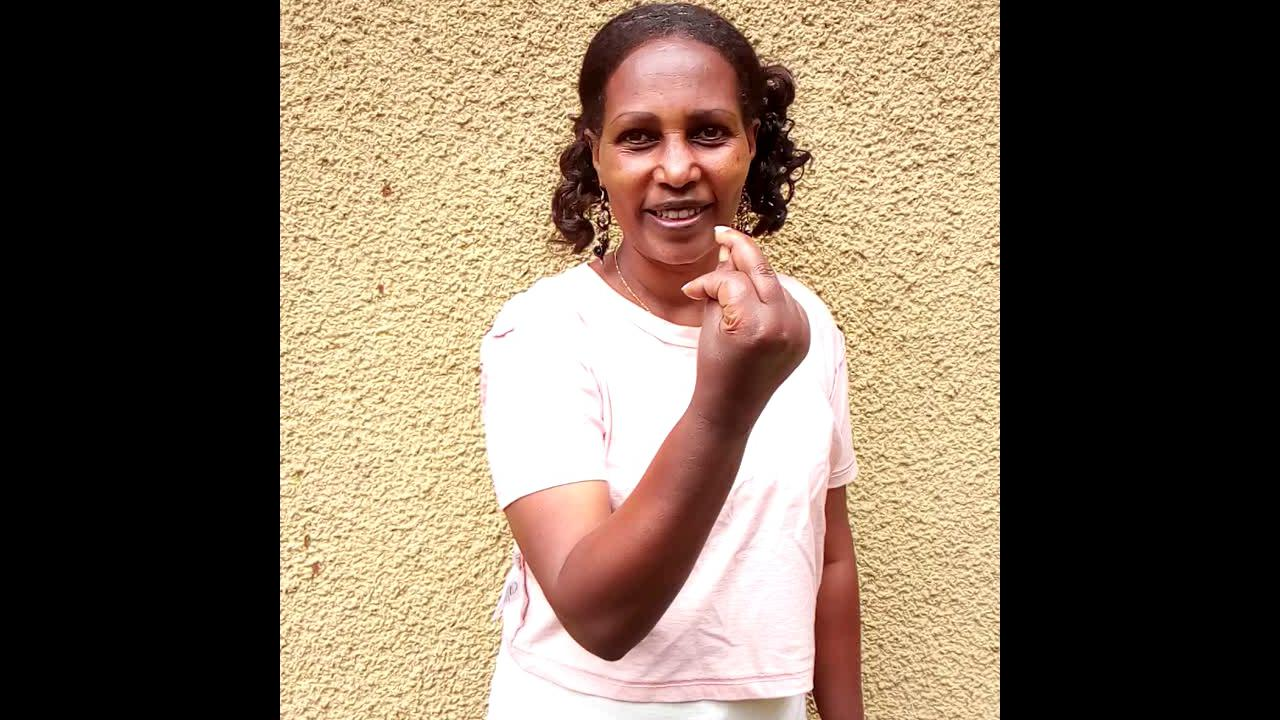CHE: (686, 227, 816, 500)
